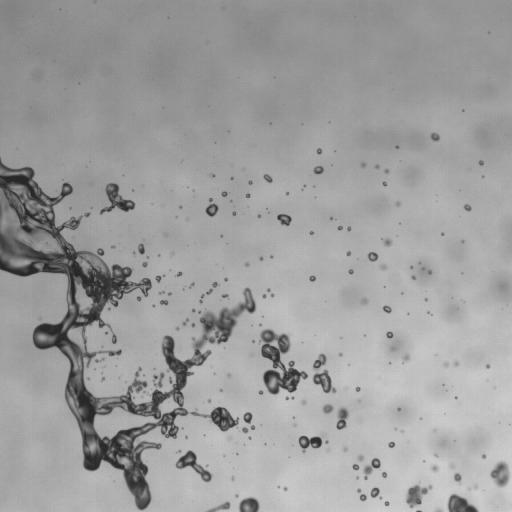droplet: (259, 329, 308, 394), (99, 183, 135, 214), (405, 483, 432, 508), (490, 460, 511, 487), (297, 433, 325, 452), (238, 496, 259, 511), (336, 407, 349, 429), (205, 198, 218, 216), (277, 214, 291, 225), (370, 487, 381, 498), (322, 404, 333, 413), (243, 412, 252, 423), (368, 252, 378, 261), (430, 132, 439, 141), (313, 166, 323, 174), (382, 238, 392, 246), (263, 174, 272, 182), (382, 305, 391, 313), (454, 472, 461, 482), (138, 243, 144, 254), (402, 354, 409, 363), (155, 275, 163, 282), (430, 464, 438, 471), (464, 204, 471, 211), (361, 298, 368, 305), (182, 318, 189, 325), (386, 331, 393, 338), (241, 427, 248, 433), (352, 464, 359, 470), (316, 148, 322, 154), (309, 275, 315, 281), (388, 441, 394, 447), (357, 455, 363, 461), (160, 300, 167, 305), (221, 191, 227, 196), (142, 261, 147, 267), (380, 264, 386, 269), (176, 271, 182, 276), (348, 269, 353, 274), (443, 362, 448, 367), (342, 446, 347, 451), (381, 472, 386, 477), (384, 501, 389, 506), (222, 294, 228, 298), (454, 360, 458, 366), (479, 160, 483, 165), (361, 162, 365, 167), (382, 181, 386, 186), (337, 226, 342, 230), (189, 283, 194, 287), (137, 296, 141, 301), (355, 387, 360, 391), (258, 390, 263, 394), (301, 400, 306, 404), (250, 424, 254, 429), (481, 454, 486, 458), (450, 463, 454, 468), (472, 485, 477, 489), (283, 486, 287, 491), (375, 164, 379, 168), (384, 169, 388, 173), (248, 180, 252, 184), (246, 193, 250, 197), (396, 202, 400, 206), (346, 251, 350, 255), (411, 275, 415, 279), (262, 294, 266, 298), (191, 323, 195, 327), (486, 364, 490, 368), (227, 373, 231, 377), (226, 436, 231, 439), (245, 262, 248, 266), (428, 270, 431, 274), (159, 291, 163, 294), (175, 327, 179, 330), (391, 347, 394, 351), (338, 353, 342, 356), (101, 377, 104, 381), (257, 214, 260, 217), (347, 227, 350, 230), (310, 231, 313, 234), (111, 245, 114, 248), (168, 292, 171, 295), (208, 399, 211, 402), (231, 477, 234, 480), (210, 174, 214, 176), (232, 212, 236, 214), (260, 257, 262, 260), (410, 266, 413, 268), (224, 278, 227, 280), (424, 298, 427, 300), (192, 309, 195, 311), (285, 397, 288, 399), (291, 396, 293, 399), (396, 146, 398, 148), (231, 177, 233, 179), (286, 192, 288, 194), (179, 206, 181, 208), (270, 255, 272, 257), (252, 340, 254, 342), (398, 408, 400, 410), (325, 441, 327, 443), (178, 450, 180, 452), (435, 454, 437, 456)
ligament: (0, 159, 255, 511), (175, 450, 211, 482), (312, 353, 336, 392), (447, 493, 479, 511), (199, 282, 218, 303), (363, 458, 380, 478), (206, 501, 230, 511), (357, 488, 366, 501), (267, 288, 274, 297), (112, 333, 116, 343), (433, 507, 443, 511), (417, 510, 421, 511)
